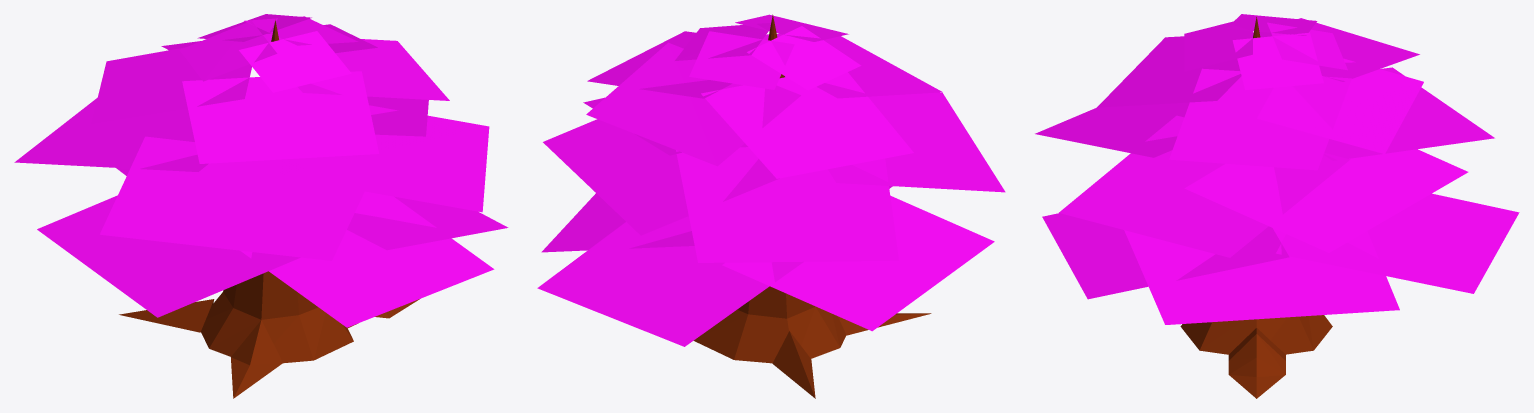
The model's file is yewtree.obj.
The picture shows the model from 3 angles, left to right: view 1: azimuth 30°, elevation 25°; view 2: azimuth 150°, elevation 25°; view 3: azimuth 270°, elevation 25°; orthographic projection. The views are drawn at different scales.
Parts seen in each view (by area): view 1: yewtree_back; view 2: yewtree_back; view 3: yewtree_back.
Boxes of the visible parts, bbox=[...] form: yewtree_back: bbox=[14, 14, 508, 398]; yewtree_back: bbox=[537, 14, 1005, 398]; yewtree_back: bbox=[1035, 14, 1519, 398].
Bounding box in the file's own units: 3.64 × 2.7 × 3.82.
